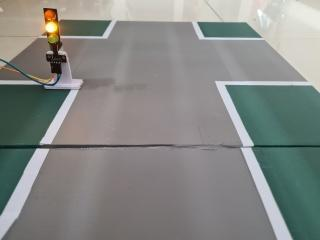yellow: (33, 3, 71, 54)
